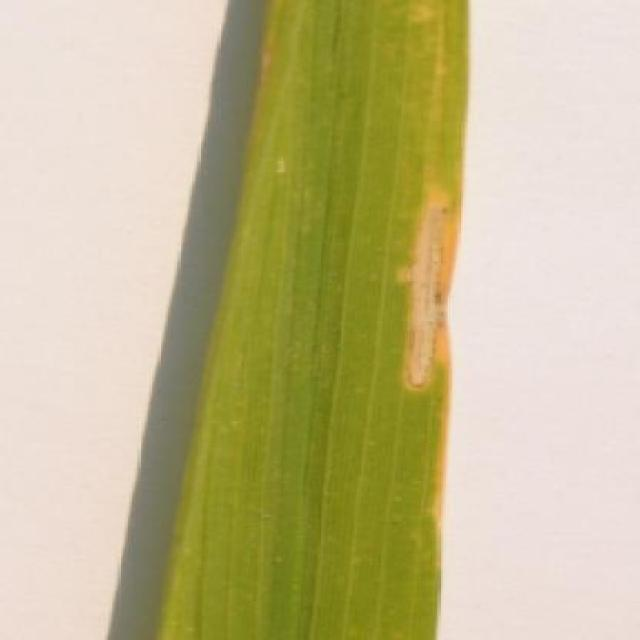Brown_Spot: (158, 0, 474, 640)
